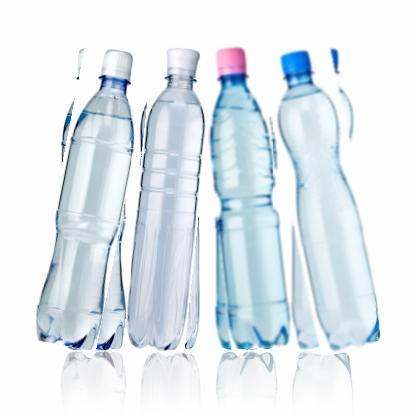plastic-bottles: (274, 38, 377, 355), (44, 38, 141, 351), (133, 41, 211, 353), (209, 42, 287, 350)
